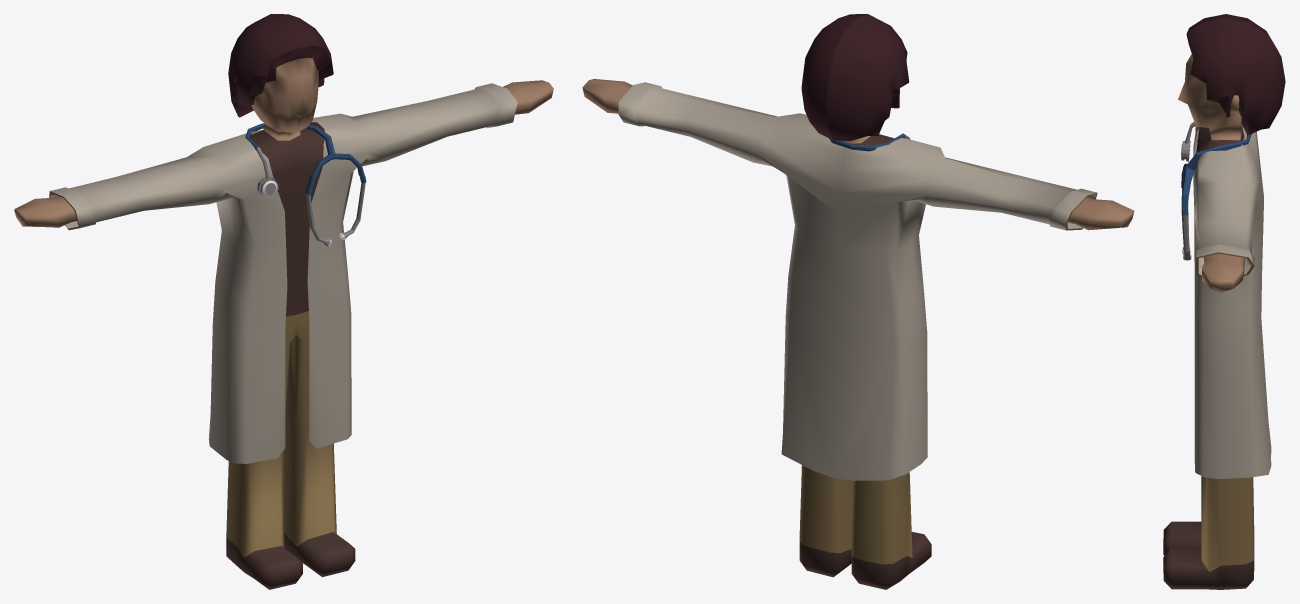
File: doktor (1).fbx
3 renders of one model, left to right at view 1: azimuth 30°, elevation 25°; view 2: azimuth 150°, elevation 25°; view 3: azimuth 270°, elevation 25°, orthographic. The views are drawn at different scales.
Parts seen in each view (by area): view 1: Cylinder.002; view 2: Cylinder.002; view 3: Cylinder.002.
Boxes of the visible parts, box(x1,y1,x2,y2) form: Cylinder.002: box(14, 14, 553, 589); Cylinder.002: box(582, 14, 1134, 589); Cylinder.002: box(1163, 14, 1285, 589).
Bounding box in the file's own units: 470 × 461 × 92.54.
